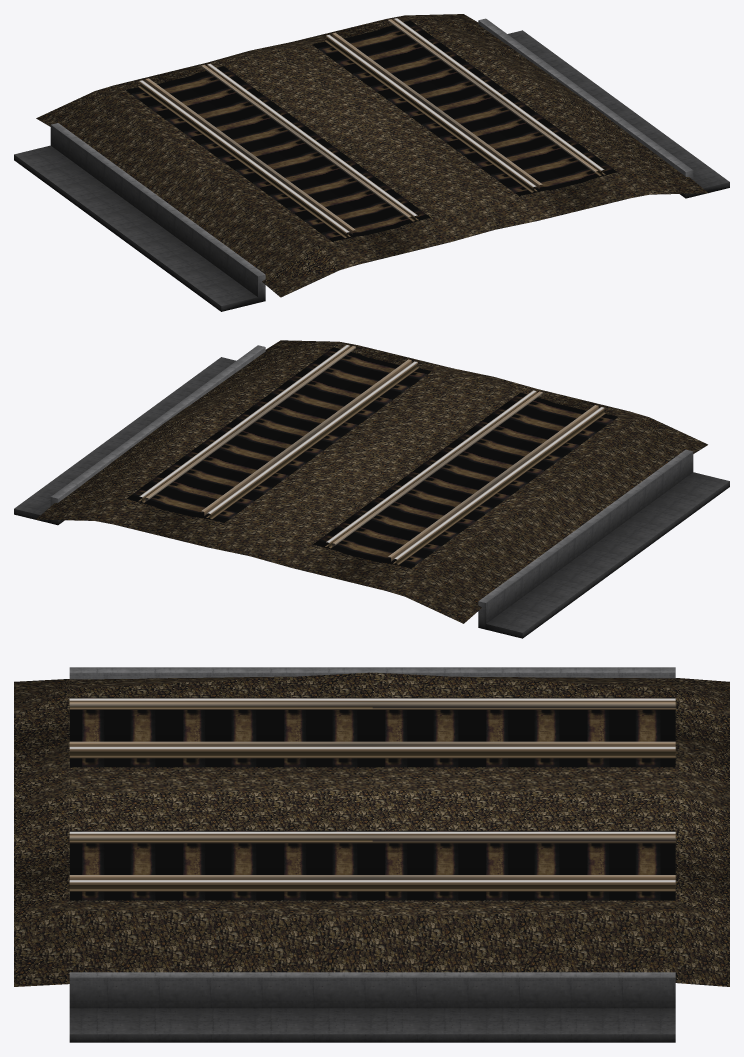
Rendered from KIN_2RAIL_25.glb.
The picture shows the model from 3 angles, top to bottom: view 1: azimuth 30°, elevation 25°; view 2: azimuth 150°, elevation 25°; view 3: azimuth 270°, elevation 25°; orthographic projection. The views are drawn at different scales.
Visible parts, largest first — view 1: Jari_All2, R000_RG_R2, R000_RG_L2; view 2: Jari_All2, R000_RG_R2, R000_RG_L2; view 3: Jari_All2, R000_RG_R2, R000_RG_L2.
Boxes of the visible parts, left/top/right/bottom form: Jari_All2: left=14, top=14, right=729, bottom=311; R000_RG_R2: left=145, top=32, right=542, bottom=234; R000_RG_L2: left=201, top=19, right=597, bottom=218; Jari_All2: left=14, top=340, right=729, bottom=638; R000_RG_R2: left=201, top=359, right=598, bottom=561; R000_RG_L2: left=145, top=346, right=542, bottom=546; Jari_All2: left=14, top=667, right=729, bottom=1042; R000_RG_R2: left=69, top=702, right=675, bottom=841; R000_RG_L2: left=69, top=741, right=675, bottom=879.
Bounding box in the file's own units: 35.42 × 3.26 × 29.53.
7 materials, 6 textured.
